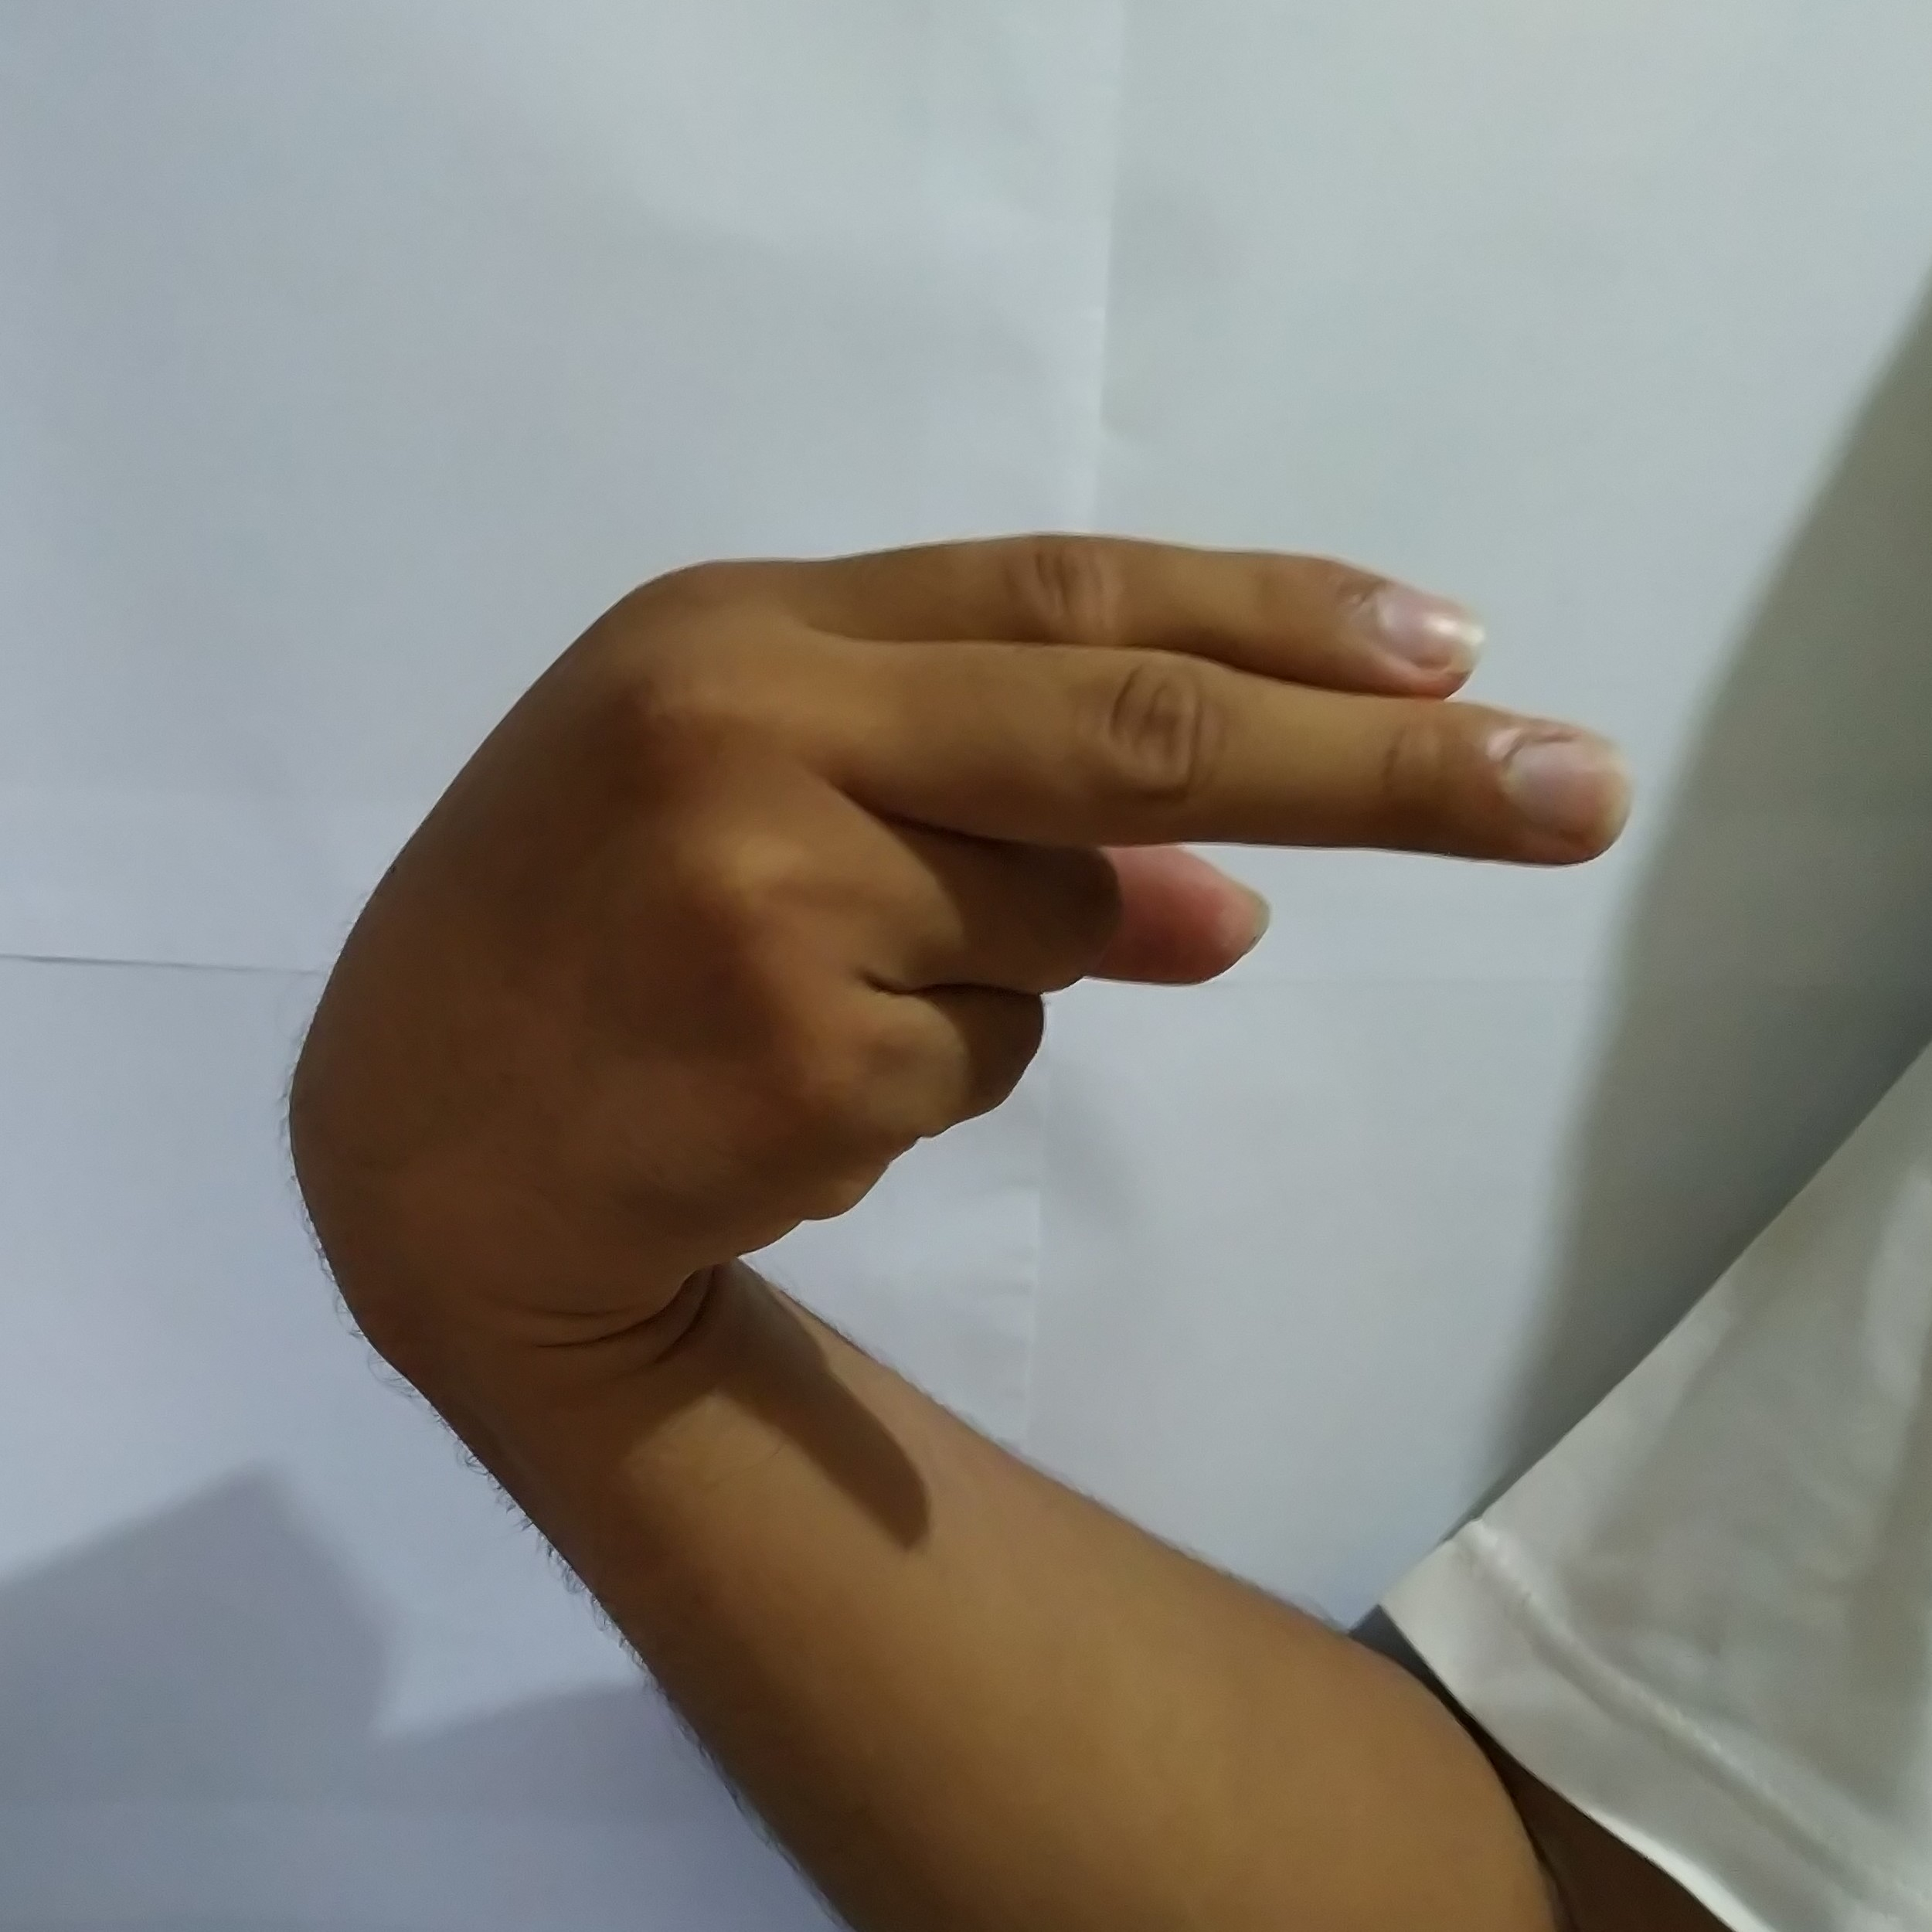H: (285, 508, 1649, 1292)
